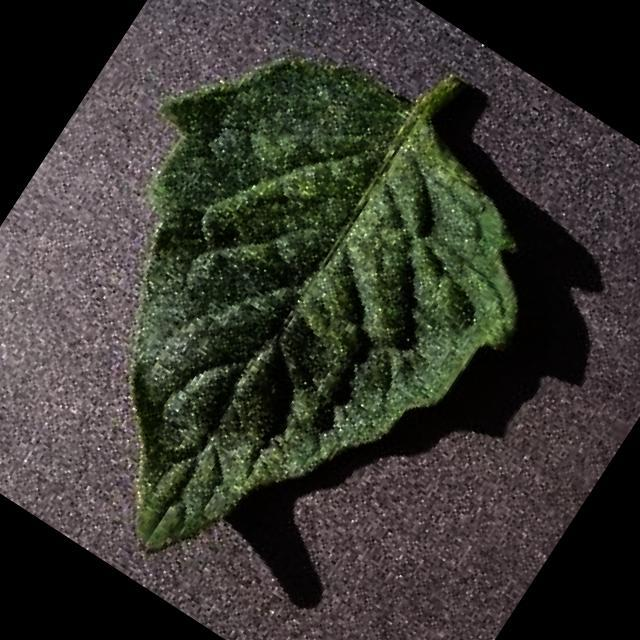Tomato spider mites leaf: (0, 0, 590, 640)
